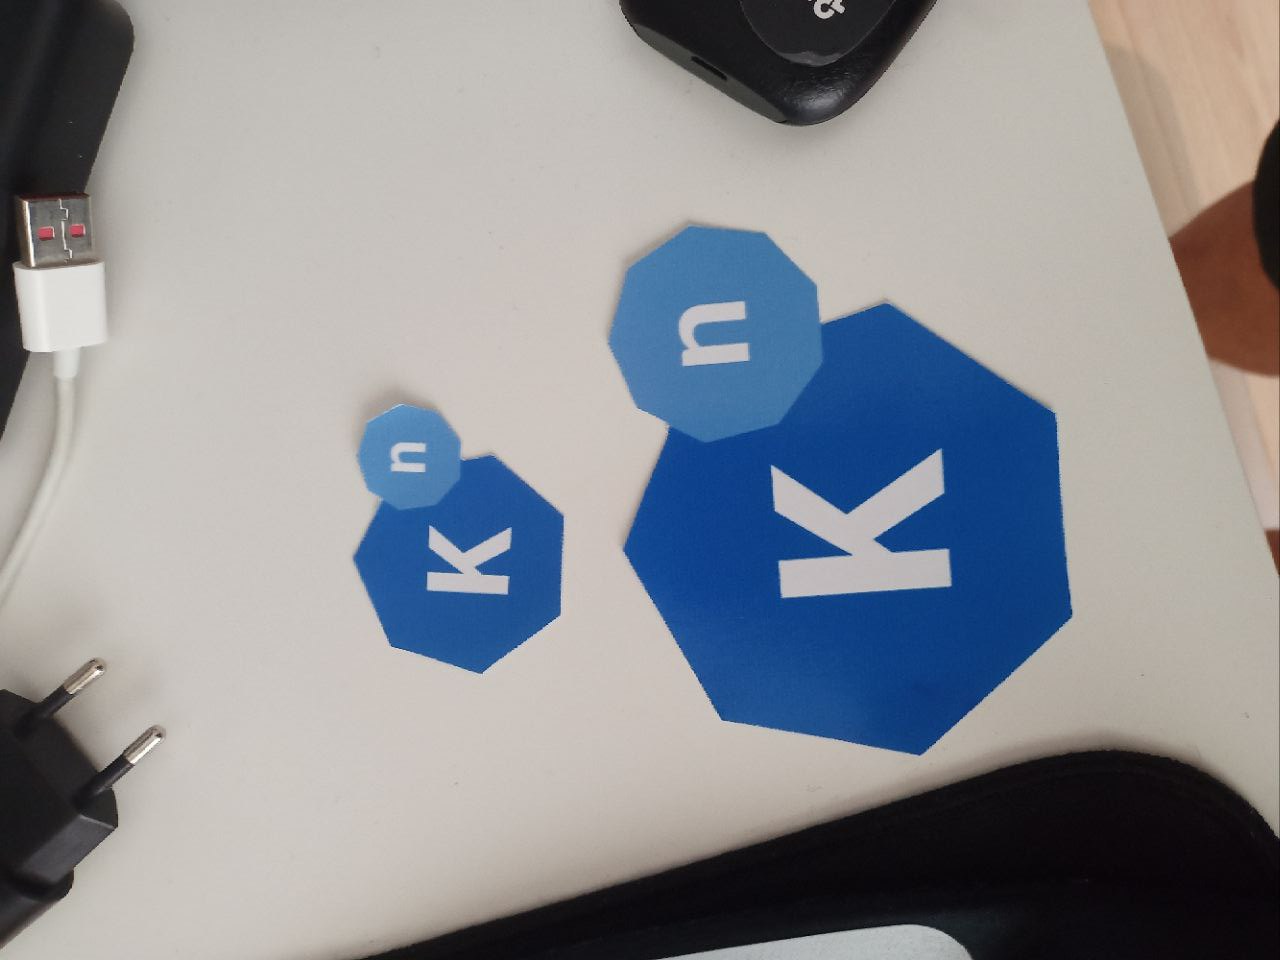knative: (606, 224, 1074, 764), (348, 400, 567, 678)
